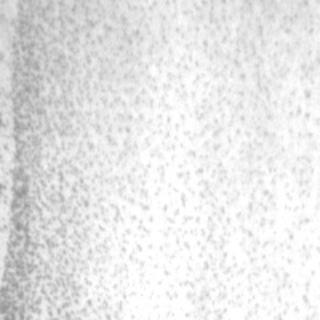pitted_surface: (0, 0, 314, 318)
